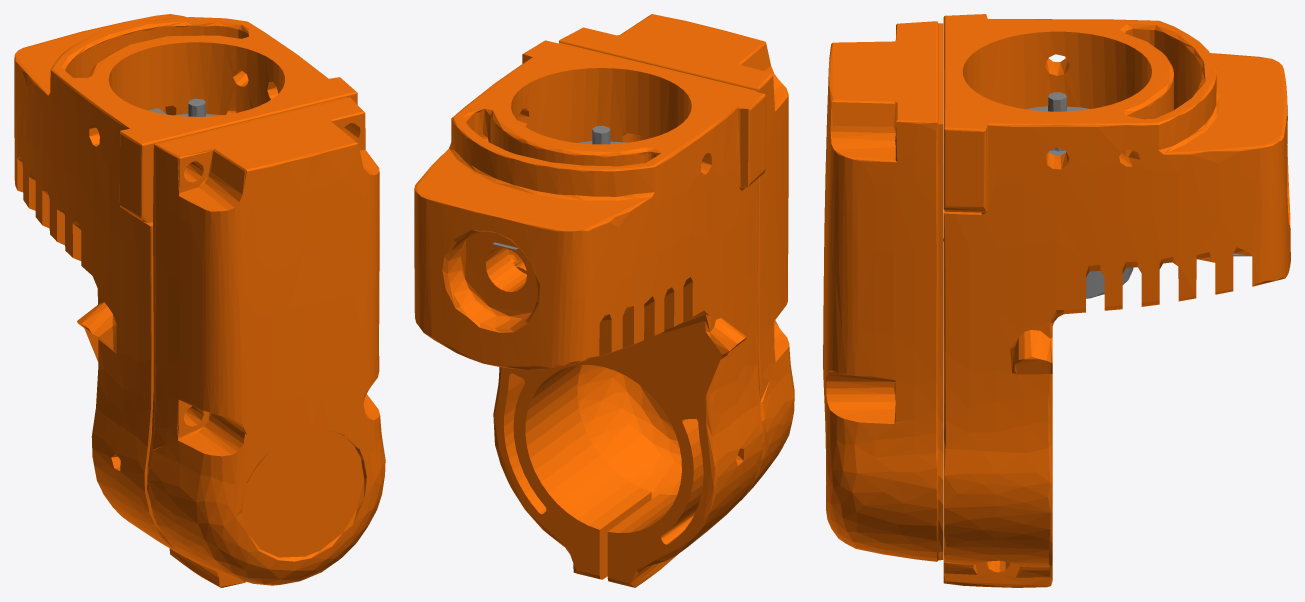
File: arm4.dae
3 renders of one model, left to right at view 1: azimuth 30°, elevation 25°; view 2: azimuth 150°, elevation 25°; view 3: azimuth 270°, elevation 25°, orthographic. The views are drawn at different scales.
Visible parts, largest first — view 1: arm4; view 2: arm4; view 3: arm4.
Boxes of the visible parts, x1,y1,x2,y2 form: arm4: (14,14,385,587); arm4: (414,14,794,587); arm4: (823,14,1290,587).
Bounding box in the file's own units: 0.0669 × 0.0987 × 0.1168.
